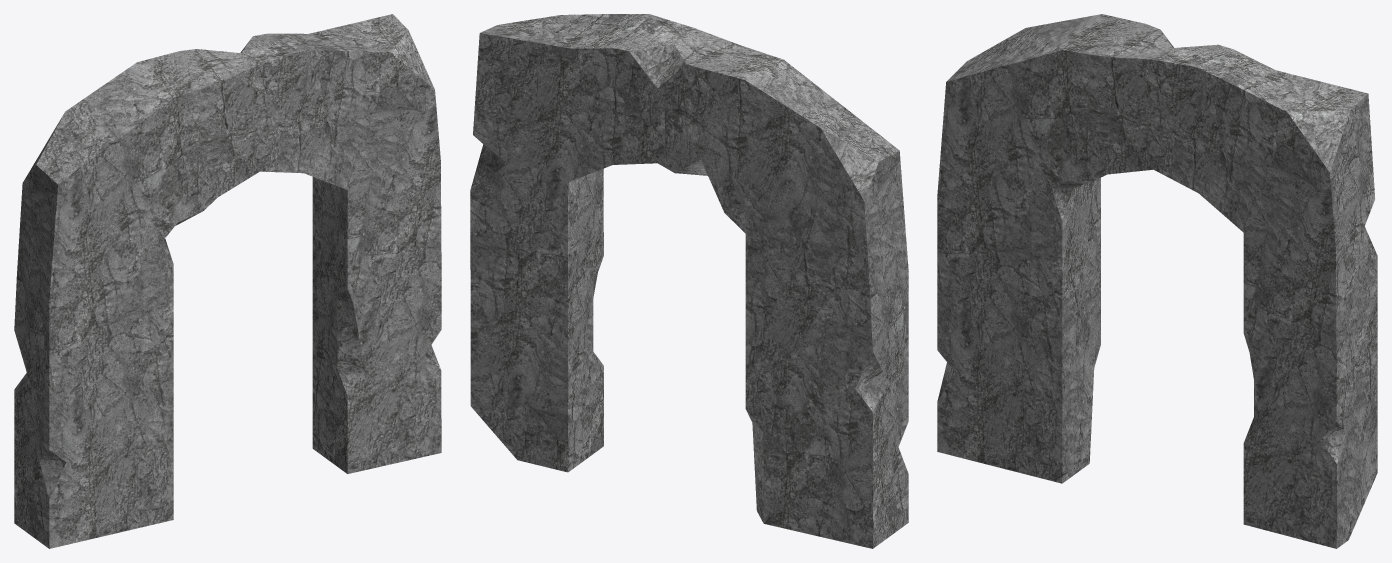
The model's file is materials_3_wall_3.fbx.
The picture shows the model from 3 angles, left to right: view 1: azimuth 30°, elevation 25°; view 2: azimuth 150°, elevation 25°; view 3: azimuth 330°, elevation 25°; orthographic projection. The views are drawn at different scales.
Parts seen in each view (by area): view 1: materials_3_wall_3; view 2: materials_3_wall_3; view 3: materials_3_wall_3.
Boxes of the visible parts, left/top/right/bottom form: materials_3_wall_3: left=14, top=14, right=441, bottom=548; materials_3_wall_3: left=470, top=14, right=908, bottom=548; materials_3_wall_3: left=937, top=14, right=1377, bottom=548.
Size of the model in its own units: 286 by 305 by 50.59.
